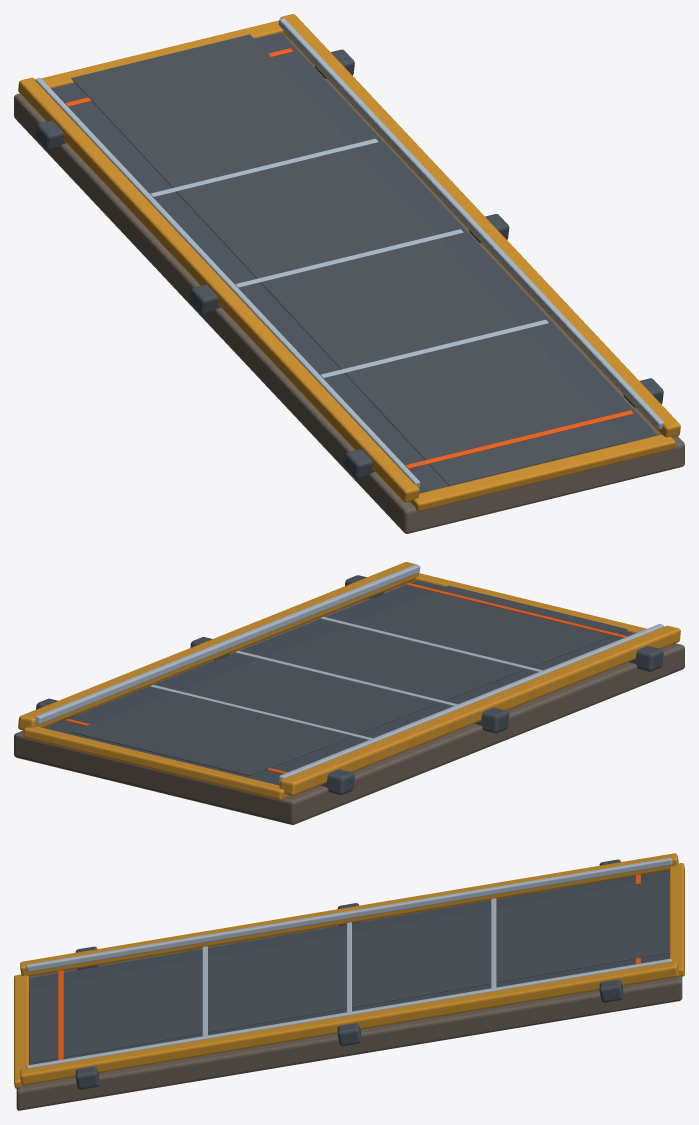
The model's file is SM_MineRamp_Main.fbx.
The picture shows the model from 3 angles, top to bottom: view 1: azimuth 30°, elevation 25°; view 2: azimuth 150°, elevation 25°; view 3: azimuth 270°, elevation 25°; orthographic projection. The views are drawn at different scales.
Visible parts, largest first — view 1: SM_MineRamp_Main.001; view 2: SM_MineRamp_Main.001; view 3: SM_MineRamp_Main.001.
Boxes of the visible parts, <box> form: SM_MineRamp_Main.001: <box>14,14,684,533</box>; SM_MineRamp_Main.001: <box>14,562,684,824</box>; SM_MineRamp_Main.001: <box>14,853,684,1110</box>.
Size of the model in its own units: 1511 by 680 by 360.
